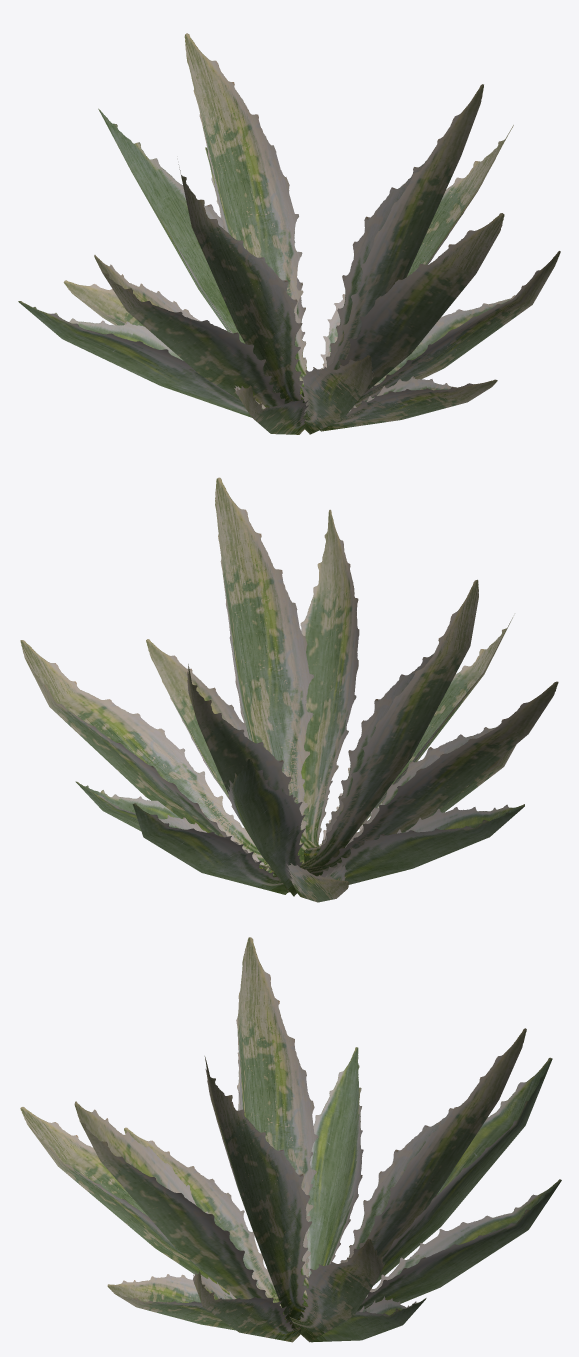
File: shrub4.glb
3 views of the same model, one above another, from view 1: azimuth 30°, elevation 25°; view 2: azimuth 150°, elevation 25°; view 3: azimuth 270°, elevation 25° (orthographic).
Parts seen in each view (by area): view 1: agave_2_agave_2Mat_0.028; view 2: agave_2_agave_2Mat_0.028; view 3: agave_2_agave_2Mat_0.028.
Part boxes in pixels (x1=…): agave_2_agave_2Mat_0.028: x1=18, y1=33, x2=560, y2=434; agave_2_agave_2Mat_0.028: x1=20, y1=477, x2=558, y2=902; agave_2_agave_2Mat_0.028: x1=20, y1=937, x2=561, y2=1342.
Size of the model in its own units: 17.34 by 11.83 by 16.5.
1 material, 1 textured.
